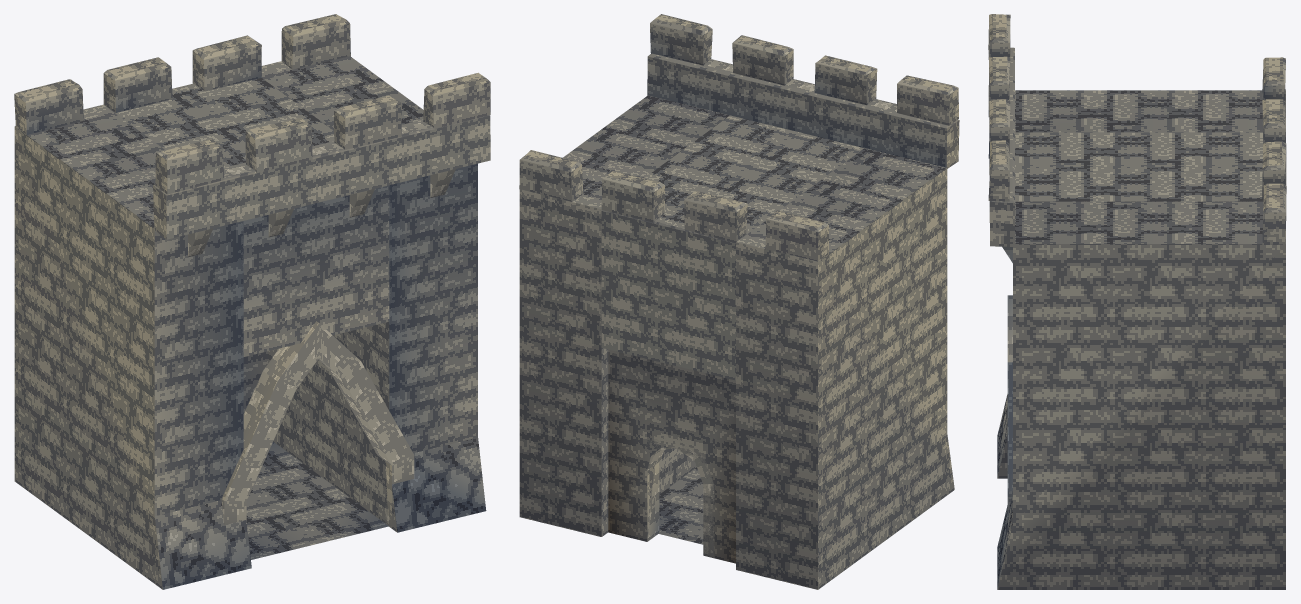
Rendered from cst.gatehouse.glb.
3 views of the same model, side by side, from view 1: azimuth 30°, elevation 25°; view 2: azimuth 150°, elevation 25°; view 3: azimuth 270°, elevation 25° (orthographic). The views are drawn at different scales.
Parts seen in each view (by area): view 1: kit_block, kit_top, kit_detail, kit_shell_passage_floor; view 2: kit_block, kit_top, kit_shell_passage_floor, kit_detail; view 3: kit_block, kit_top, kit_detail.
Part boxes in pixels (left/top/right/bottom): kit_block: left=14, top=56, right=486, bottom=589; kit_top: left=14, top=14, right=490, bottom=239; kit_detail: left=188, top=169, right=455, bottom=528; kit_shell_passage_floor: left=246, top=441, right=388, bottom=559; kit_block: left=519, top=95, right=954, bottom=589; kit_top: left=519, top=14, right=959, bottom=261; kit_shell_passage_floor: left=658, top=467, right=703, bottom=544; kit_detail: left=646, top=439, right=714, bottom=558; kit_block: left=997, top=90, right=1285, bottom=589; kit_top: left=988, top=14, right=1286, bottom=246; kit_detail: left=1002, top=246, right=1012, bottom=513.
Size of the model in its own units: 8.04 by 10.3 by 6.56.
5 materials, 5 textured.
